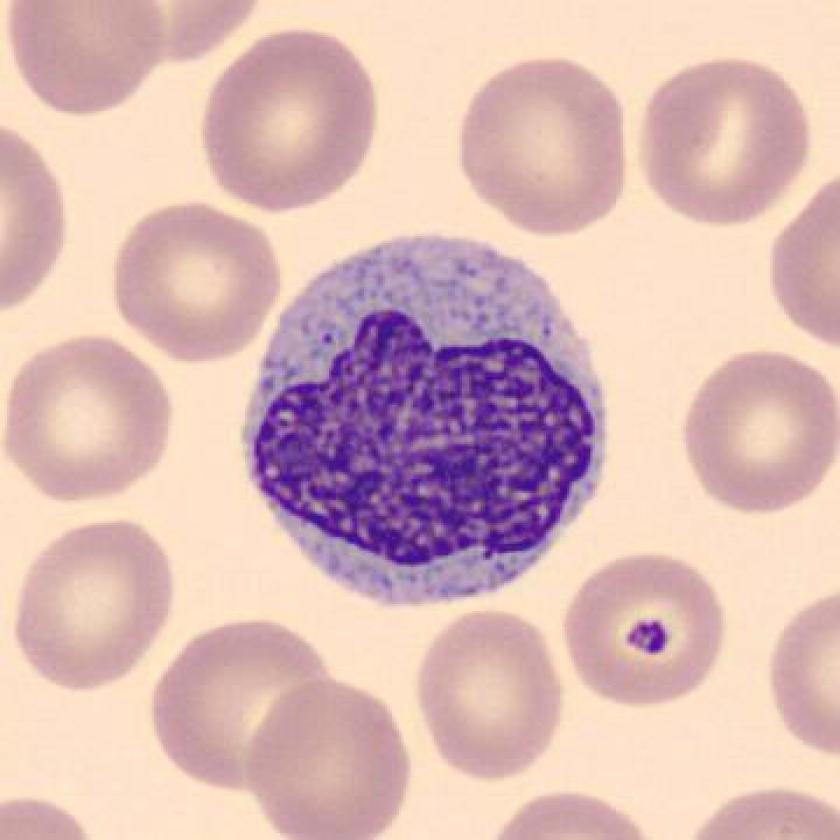monocyte: (228, 214, 627, 630)
